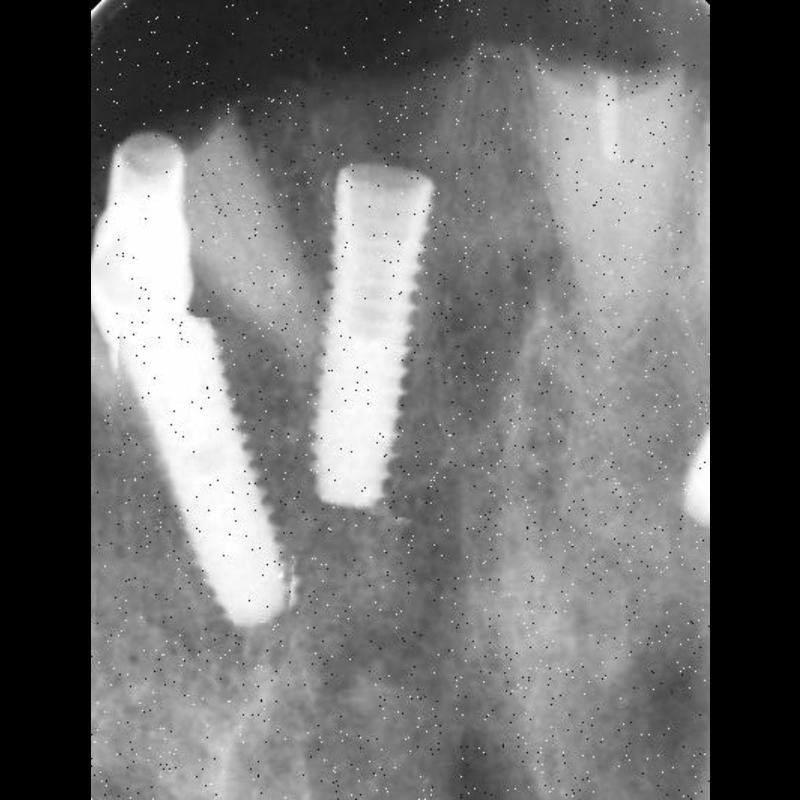Dentium: (103, 316, 307, 638), (303, 151, 437, 517)
